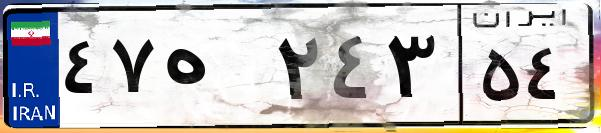2: (270, 28, 330, 110)
3: (385, 28, 445, 110)
4: (330, 28, 385, 110), (57, 26, 110, 100), (525, 38, 570, 115)
5: (475, 38, 525, 113)
7: (110, 28, 158, 98)
ه: (158, 20, 270, 120)
